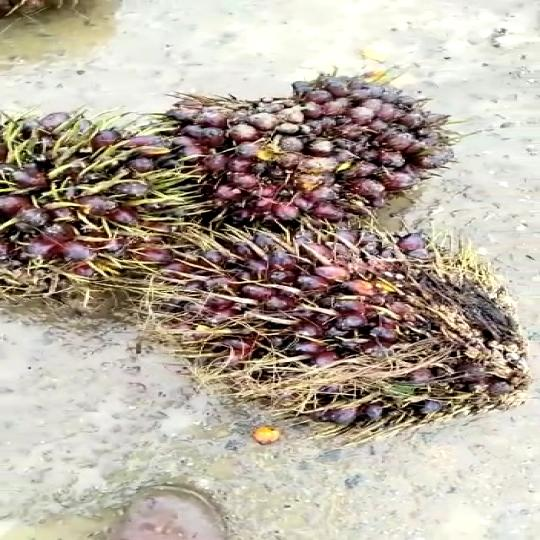kurang masak: (127, 214, 540, 427), (169, 63, 454, 225), (0, 96, 202, 309)
